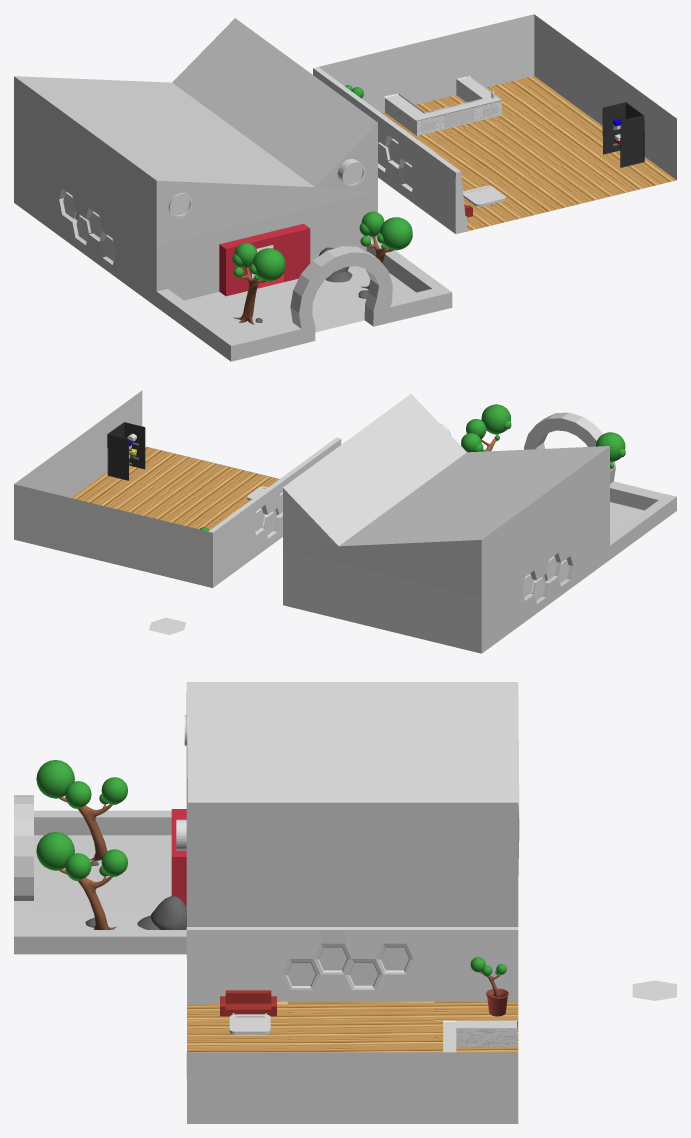
The model's file is Escenario-interior-Centro-Pokemon.fbx.
3 views of the same model, one above another, from view 1: azimuth 30°, elevation 25°; view 2: azimuth 150°, elevation 25°; view 3: azimuth 270°, elevation 25° (orthographic). The views are drawn at different scales.
Visible parts, largest first — view 1: Centro Pokemon.005, Centro Pokemon.011, Centro Pokemon.014, Centro Pokemon.018, Centro Pokemon.017, Centro Pokemon.012; view 2: Centro Pokemon.005, Centro Pokemon.011, Centro Pokemon.014, Centro Pokemon.012; view 3: Centro Pokemon.005, Centro Pokemon.011, Centro Pokemon.014, Centro Pokemon.012, Centro Pokemon.018, Centro Pokemon.020, Centro Pokemon.028, Centro Pokemon.017.
Part boxes in pixels (<box>): Centro Pokemon.005: <box>14,18,452,361</box>; Centro Pokemon.011: <box>313,14,676,233</box>; Centro Pokemon.014: <box>382,76,676,231</box>; Centro Pokemon.018: <box>384,75,502,135</box>; Centro Pokemon.017: <box>463,185,505,206</box>; Centro Pokemon.012: <box>378,139,414,187</box>; Centro Pokemon.005: <box>283,394,676,653</box>; Centro Pokemon.011: <box>14,390,341,634</box>; Centro Pokemon.014: <box>71,446,279,529</box>; Centro Pokemon.012: <box>253,494,282,534</box>; Centro Pokemon.005: <box>14,682,519,954</box>; Centro Pokemon.011: <box>186,927,676,1123</box>; Centro Pokemon.014: <box>187,1001,518,1052</box>; Centro Pokemon.012: <box>287,947,408,985</box>; Centro Pokemon.018: <box>232,1013,518,1052</box>; Centro Pokemon.020: <box>220,990,276,1016</box>; Centro Pokemon.028: <box>470,957,508,1016</box>; Centro Pokemon.017: <box>229,1014,270,1034</box>.
Size of the model in its own units: 4515 by 1258 by 4292.
32 materials, 6 textured.
